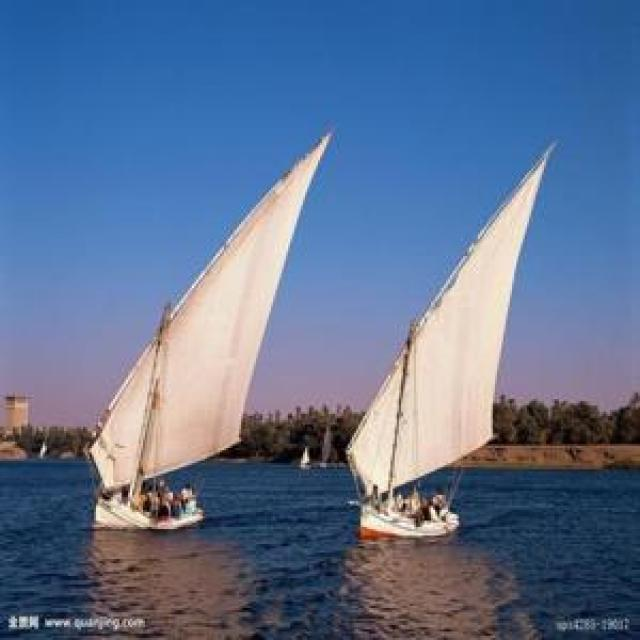sailboat: (79, 118, 336, 536), (339, 133, 557, 537)
